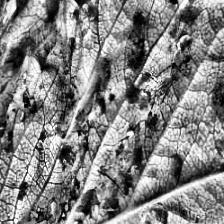Angular Leafspot: (0, 0, 224, 224), (0, 0, 85, 215)
